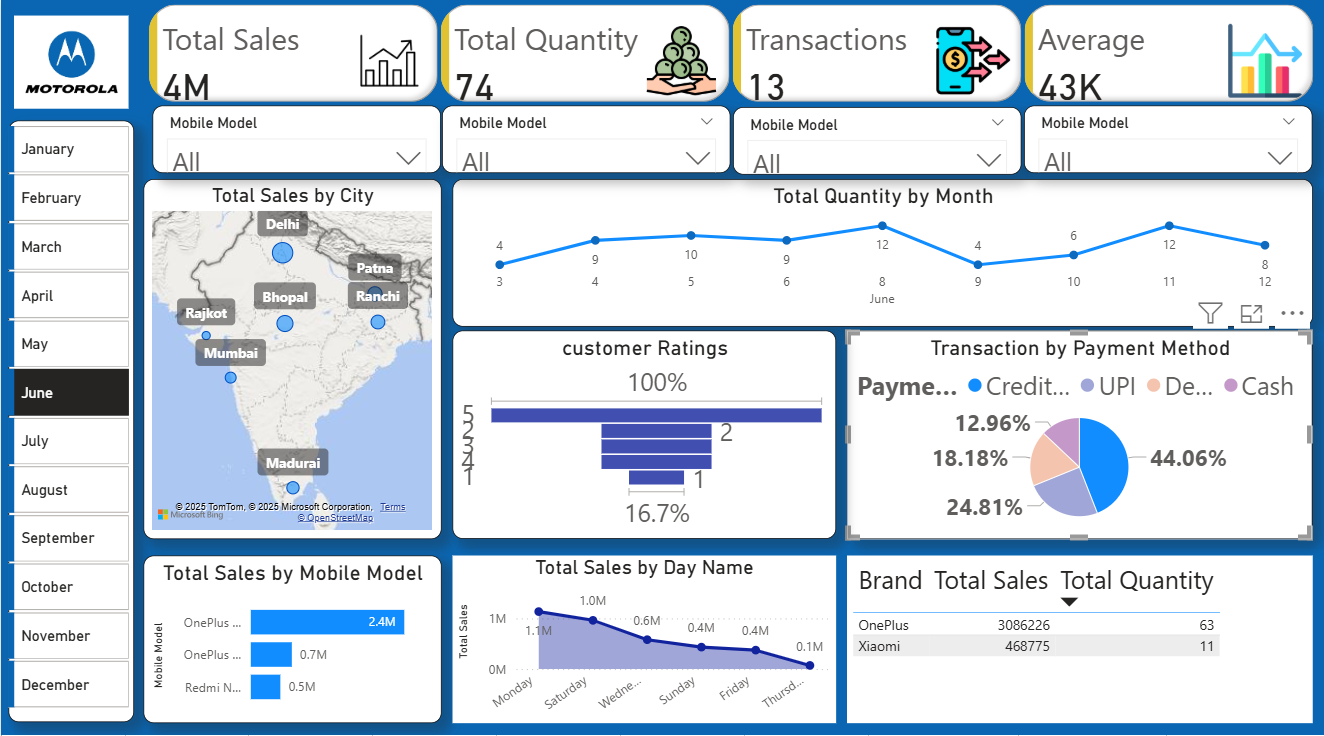

This screenshot's page, from the dashboard's own definition file:
{"tool":"powerbi","page":{"name":"Page 17","canvas":[1280,720],"ordinal":20},"visuals":[{"type":"shape","box":[7.6,118.1,121.1,581.5],"z":0},{"type":"image","box":[7.6,0,121.1,122.7],"z":1000},{"type":"advancedSlicerVisual","fields":{"Values":["Mobile Sales data.Date.Variation.Date Hierarchy.Month"]},"box":[1.5,118.1,127.2,581.5],"z":2000},{"type":"cardVisual","fields":{"Data":["Mobile Sales data.Total Sales","Mobile Sales data.Total Quantity","Mobile Sales data.Transactions","Mobile Sales data.Average"]},"box":[137.8,0,1138.7,122.7],"z":3000},{"type":"map","fields":{"Category":["Mobile Sales data.City"],"Size":["Mobile Sales data.Total Sales"]},"box":[137.8,174.1,287.7,348.3],"z":4000},{"type":"lineChart","title":"Total Quantity by Month","fields":{"Category":["Mobile Sales data.Date.Variation.Date Hierarchy.Month","Mobile Sales data.Date.Variation.Date Hierarchy.Day"],"Y":["Sum(Mobile Sales data.Units Sold)"]},"box":[436.1,174.1,831.3,142.3],"z":5000},{"type":"clusteredBarChart","title":"Total Sales by Mobile Model","fields":{"Category":["Mobile Sales data.Mobile Model"],"Y":["Mobile Sales data.Total Sales"]},"box":[137.8,537.5,287.7,162],"z":6000},{"type":"pieChart","title":"Transaction by Payment Method","fields":{"Y":["Mobile Sales data.Transactions","Mobile Sales data.Total Sales"],"Category":["Mobile Sales data.Payment Method"]},"box":[817.7,321,449.7,201.4],"z":7000},{"type":"funnel","title":"customer Ratings","fields":{"Category":["Mobile Sales data.Customer Ratings"],"Y":["CountNonNull(Mobile Sales data.Customer Ratings)"]},"box":[436.1,321,371,201.4],"z":8000},{"type":"areaChart","fields":{"Category":["Mobile Sales data.Day Name"],"Y":["Mobile Sales data.Total Sales"]},"box":[436.1,537.5,371,162],"z":9000},{"type":"tableEx","fields":{"Values":["Mobile Sales data.Brand","Mobile Sales data.Total Sales","Mobile Sales data.Total Quantity"]},"box":[817.7,537.5,449.7,162],"z":10000},{"type":"slicer","fields":{"Values":["Mobile Sales data.Mobile Model"]},"box":[146.9,103,278.6,65.1],"z":11000},{"type":"slicer","fields":{"Values":["Mobile Sales data.Mobile Model"]},"box":[425.5,103,278.6,65.1],"z":12000},{"type":"slicer","fields":{"Values":["Mobile Sales data.Mobile Model"]},"box":[707.1,104.5,278.6,65.1],"z":13000},{"type":"slicer","fields":{"Values":["Mobile Sales data.Mobile Model"]},"box":[988.8,103,278.6,65.1],"z":14000}]}

Visuals, with their boxes in screenshot pixels (x1, y1, x2, y2), scaled from the page's 1280x720 canvas onto the 1324x736 screenshot:
shape: (x1=8, y1=121, x2=133, y2=715)
image: (x1=8, y1=0, x2=133, y2=125)
advancedSlicerVisual - Mobile Sales data.Date.Variation.Date Hierarchy.Month: (x1=2, y1=121, x2=133, y2=715)
cardVisual - Mobile Sales data.Total Sales x Mobile Sales data.Total Quantity: (x1=143, y1=0, x2=1320, y2=125)
map - Mobile Sales data.City x Mobile Sales data.Total Sales: (x1=143, y1=178, x2=440, y2=534)
"Total Quantity by Month" lineChart: (x1=451, y1=178, x2=1311, y2=323)
"Total Sales by Mobile Model" clusteredBarChart: (x1=143, y1=549, x2=440, y2=715)
"Transaction by Payment Method" pieChart: (x1=846, y1=328, x2=1311, y2=534)
"customer Ratings" funnel: (x1=451, y1=328, x2=835, y2=534)
areaChart - Mobile Sales data.Day Name x Mobile Sales data.Total Sales: (x1=451, y1=549, x2=835, y2=715)
tableEx - Mobile Sales data.Brand x Mobile Sales data.Total Sales: (x1=846, y1=549, x2=1311, y2=715)
slicer - Mobile Sales data.Mobile Model: (x1=152, y1=105, x2=440, y2=172)
slicer - Mobile Sales data.Mobile Model: (x1=440, y1=105, x2=728, y2=172)
slicer - Mobile Sales data.Mobile Model: (x1=731, y1=107, x2=1020, y2=173)
slicer - Mobile Sales data.Mobile Model: (x1=1023, y1=105, x2=1311, y2=172)
